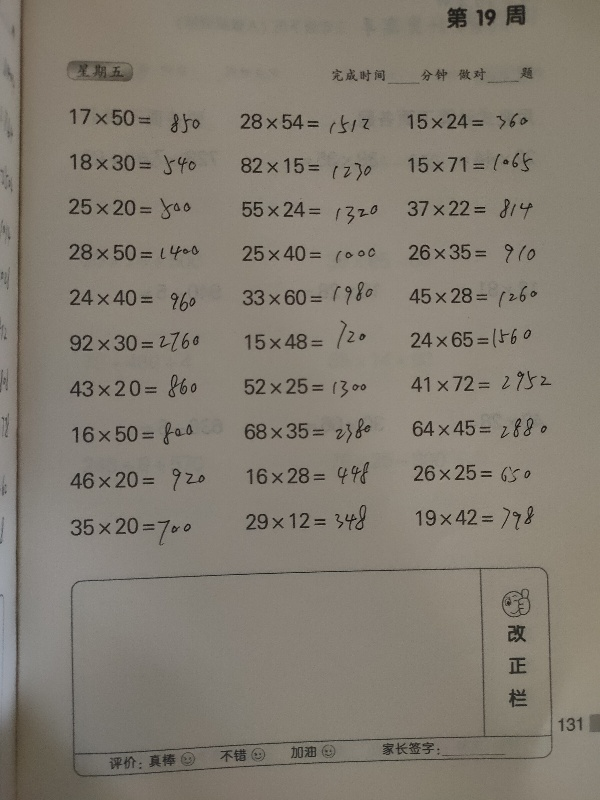equation: (403, 451, 568, 497), (406, 405, 573, 449), (62, 508, 208, 556), (231, 103, 401, 143), (72, 97, 214, 143), (60, 364, 217, 403), (62, 285, 223, 323), (408, 191, 548, 234), (38, 467, 239, 496), (238, 501, 381, 541), (404, 98, 540, 140), (230, 196, 391, 231), (240, 318, 377, 359), (59, 421, 220, 455), (72, 189, 212, 228), (224, 369, 389, 402), (63, 325, 222, 358), (407, 322, 554, 356), (232, 153, 388, 185), (403, 365, 561, 395), (231, 242, 387, 272), (229, 417, 385, 446), (401, 239, 541, 271), (243, 462, 382, 493), (405, 151, 545, 181), (409, 282, 549, 312), (418, 505, 544, 537), (235, 288, 391, 310), (67, 243, 207, 267), (71, 154, 203, 177)
